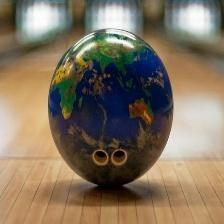Sports-Ball: (46, 26, 174, 189)
